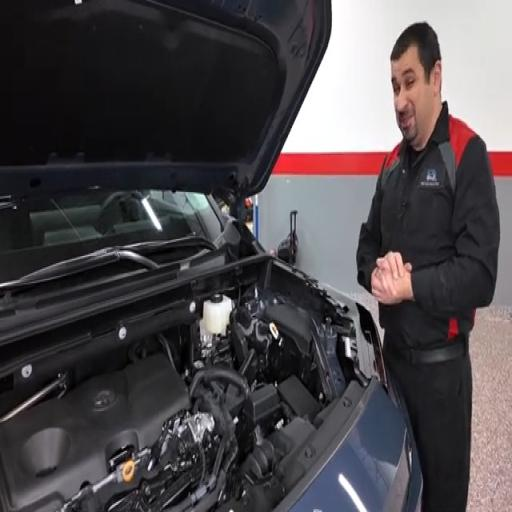bumper: (292, 386, 422, 511)
hood: (0, 0, 331, 196)
windshield: (0, 190, 222, 281)
